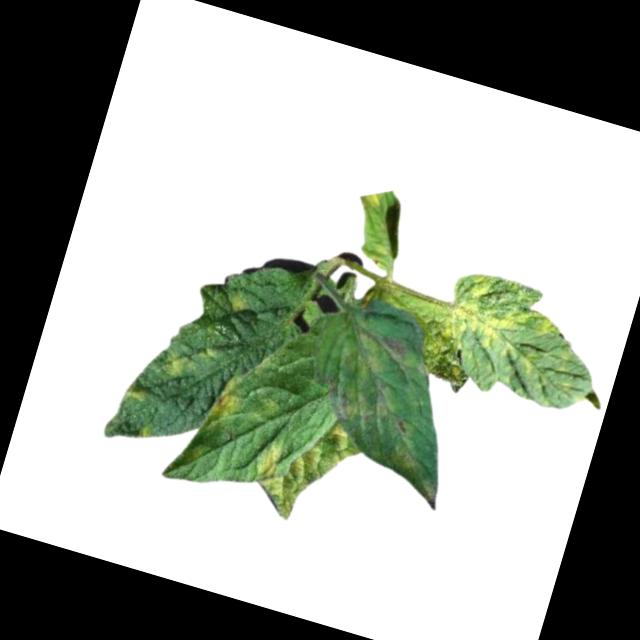Leaf_Mold: (250, 403, 368, 532), (315, 317, 429, 438), (436, 267, 559, 376), (354, 431, 450, 513), (203, 369, 248, 430), (247, 437, 288, 483), (159, 349, 191, 381), (225, 292, 252, 318)
